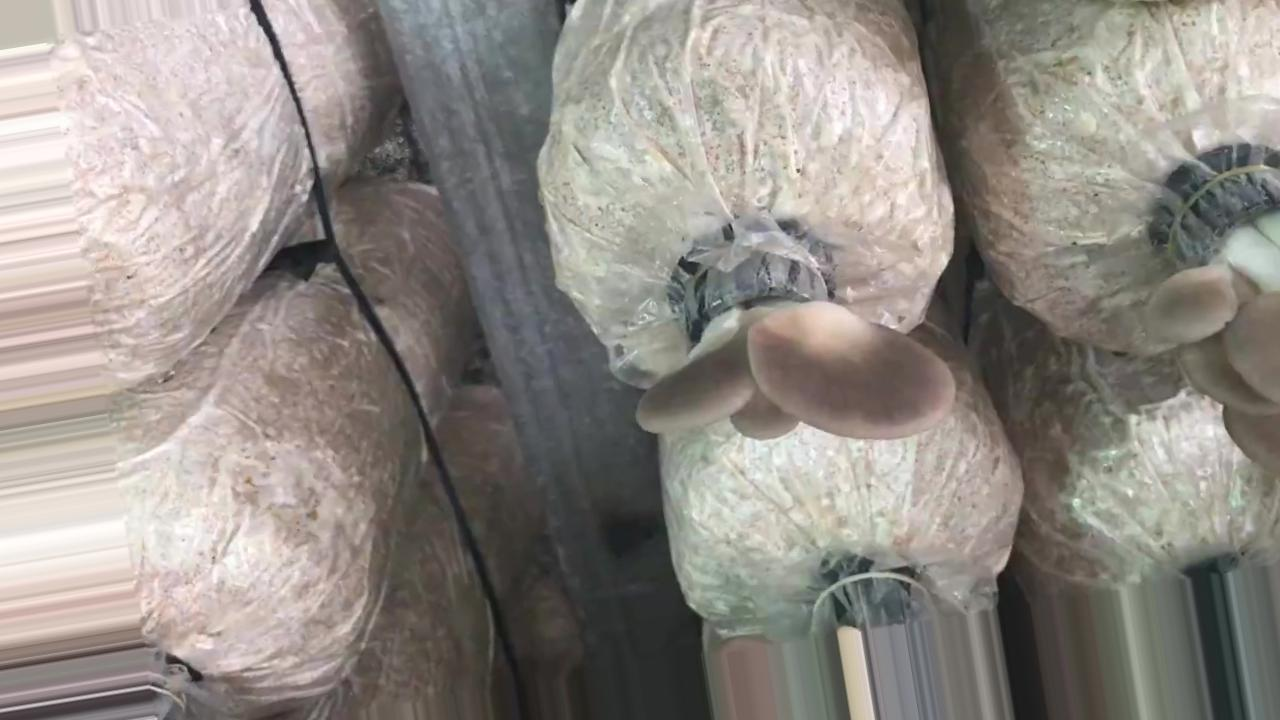nam: (634, 214, 956, 445), (1152, 163, 1280, 459)
